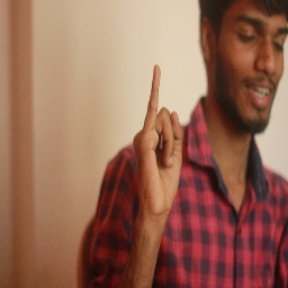I: (128, 64, 189, 211)
